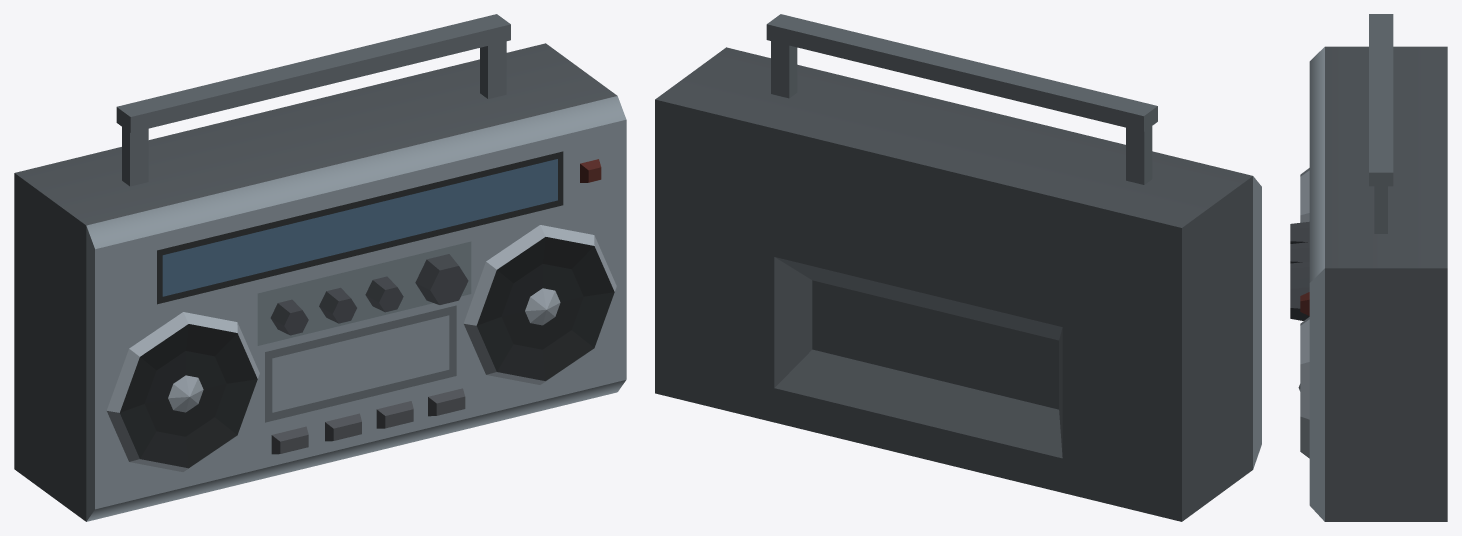
File: SM_Prop_Electronics_Boombox_01.glb
3 views of the same model, side by side, from view 1: azimuth 30°, elevation 25°; view 2: azimuth 150°, elevation 25°; view 3: azimuth 270°, elevation 25° (orthographic). The views are drawn at different scales.
Parts seen in each view (by area): view 1: SM_Prop_Electronics_Boombox_01; view 2: SM_Prop_Electronics_Boombox_01; view 3: SM_Prop_Electronics_Boombox_01.
Boxes of the visible parts, bbox=[...] form: SM_Prop_Electronics_Boombox_01: bbox=[14, 14, 626, 521]; SM_Prop_Electronics_Boombox_01: bbox=[655, 14, 1261, 521]; SM_Prop_Electronics_Boombox_01: bbox=[1290, 14, 1447, 521].
Bounding box in the file's own units: 0.9384 × 0.6224 × 0.2817.
Materials: 1 (1 with a texture image).
